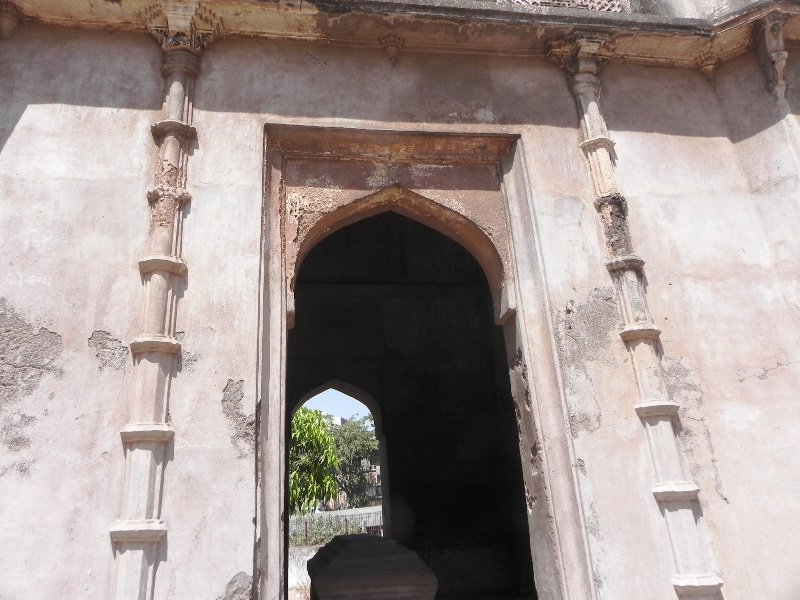Spalling: (219, 369, 265, 472), (144, 152, 192, 229), (72, 325, 131, 378), (599, 192, 638, 270)
